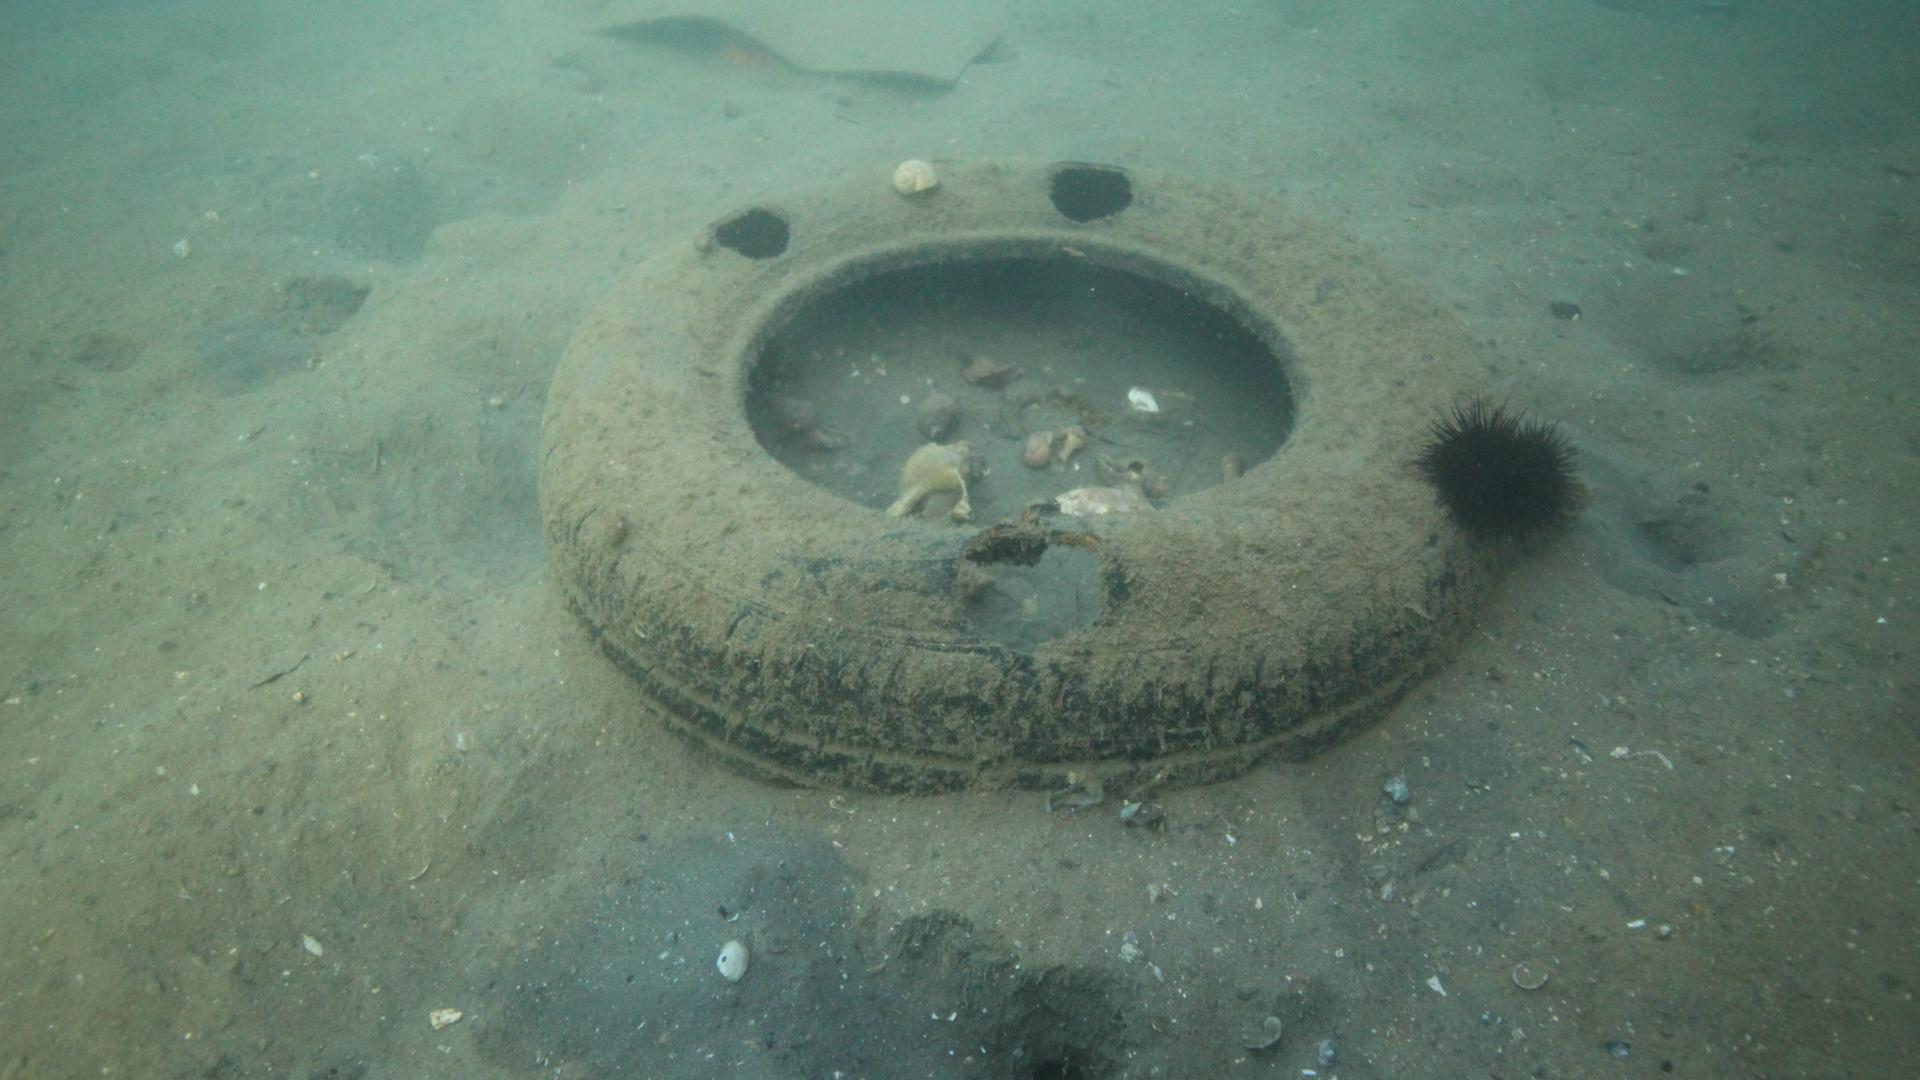tire: (529, 152, 1524, 796)
